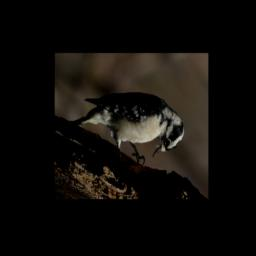Woodpecker: (67, 92, 184, 166)
